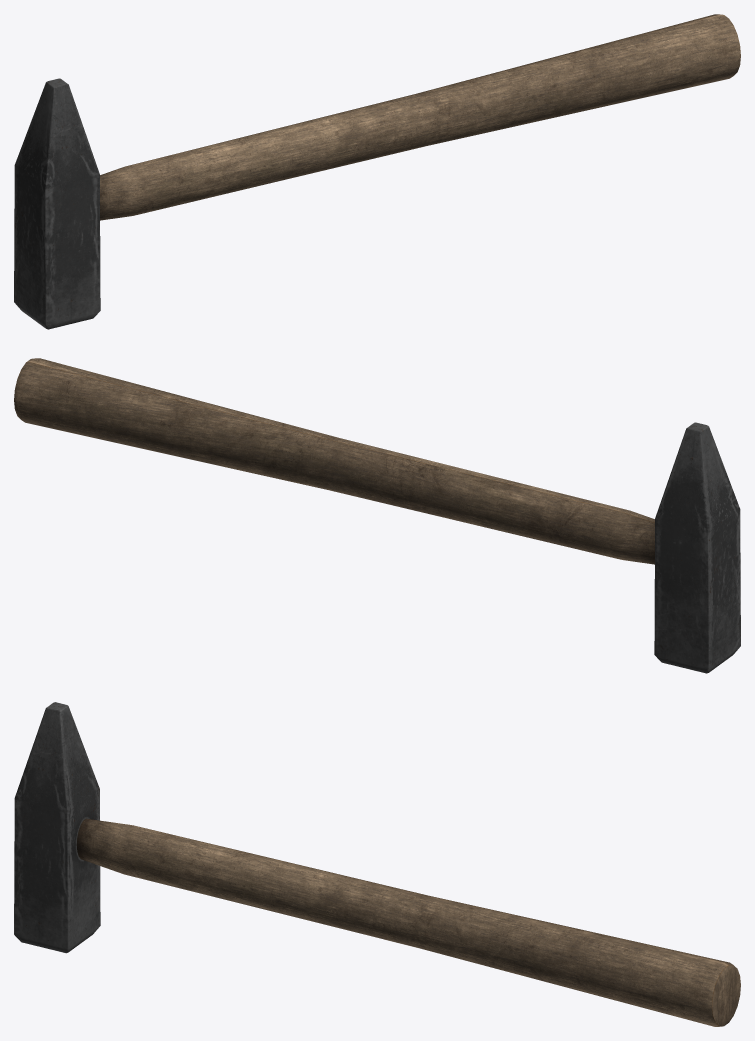
The model's file is hammer.glb.
The picture shows the model from 3 angles, top to bottom: view 1: azimuth 30°, elevation 25°; view 2: azimuth 150°, elevation 25°; view 3: azimuth 330°, elevation 25°; orthographic projection.
Visible parts, largest first — view 1: hammer; view 2: hammer; view 3: hammer.
Part boxes in pixels (<box>): hammer: <box>14,14,740,329</box>; hammer: <box>14,358,740,673</box>; hammer: <box>14,702,740,1026</box>.
Bounding box in the file's own units: 0.6572 × 0.2081 × 0.0525.
1 material, 1 textured.
